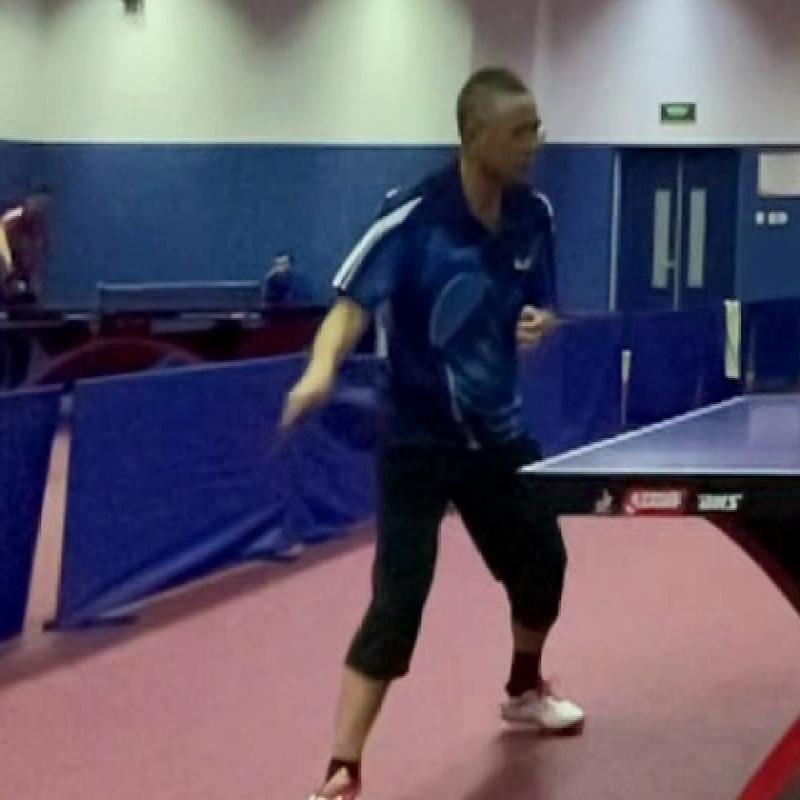bats: (256, 358, 356, 468)
